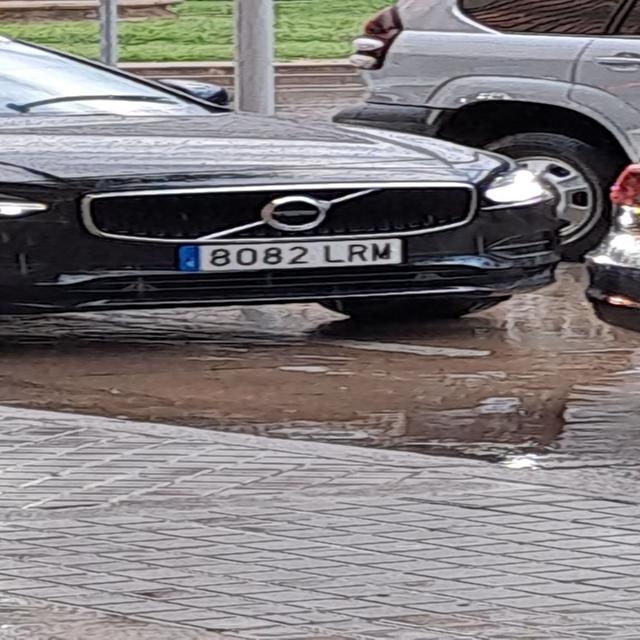license_plate-34Td: (196, 239, 402, 271), (181, 246, 195, 271)
